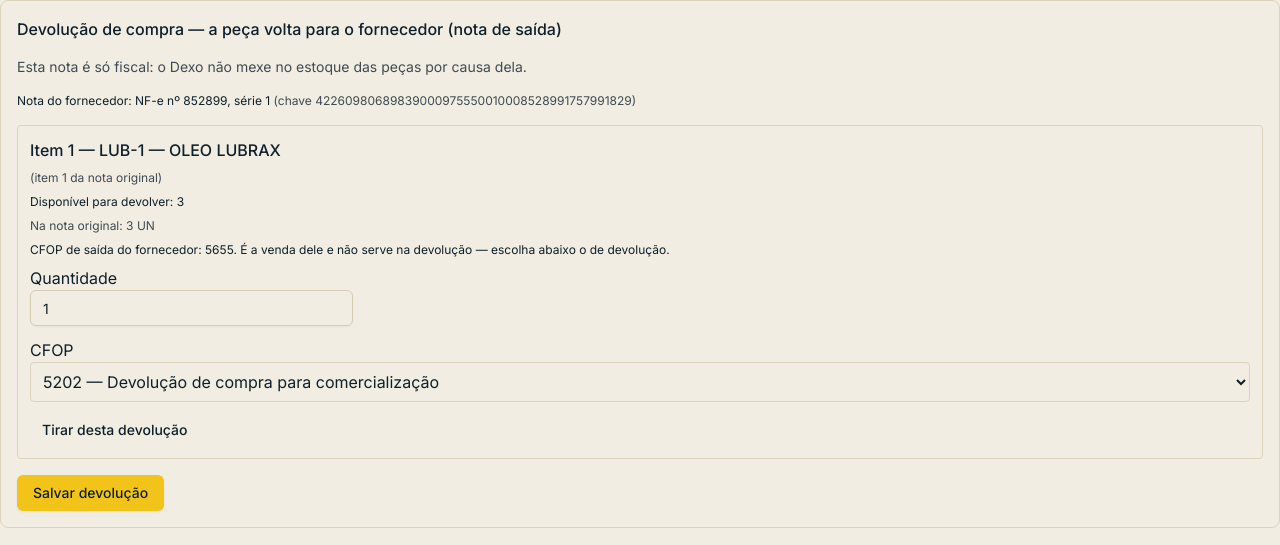
Test: K10 — quantidade: vazio não é zero, e o máximo vale de verdade › todas as peças tiradas: diz que precisa de pelo menos uma
Click the button "Tirar desta devolução". click: point(115, 430)
box: [30,414,200,446]
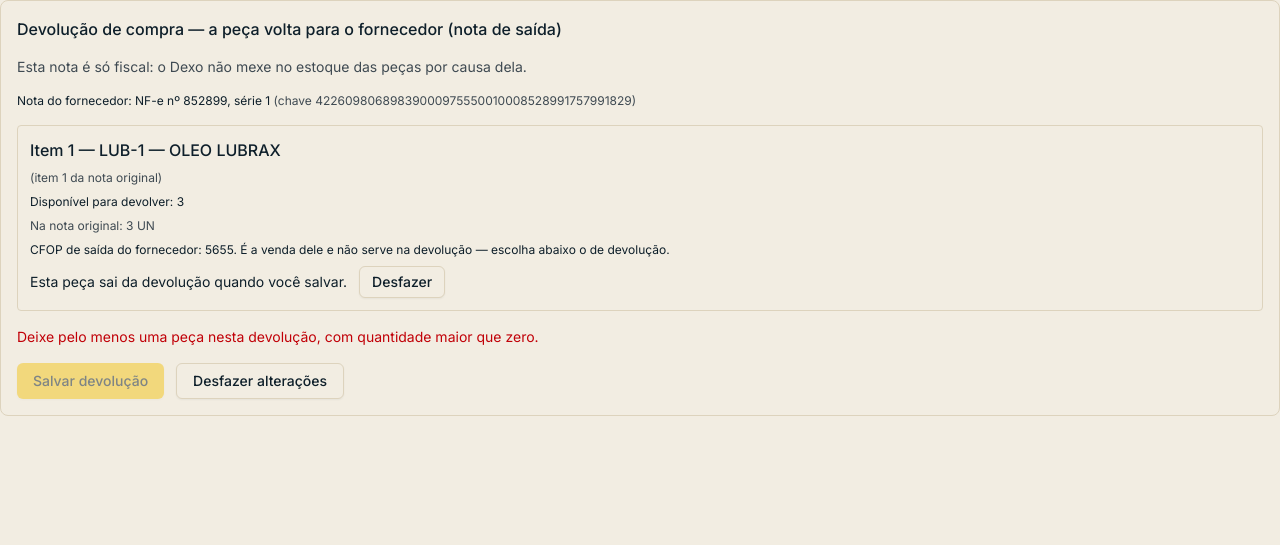
Expected: the text "Deixe pelo menos uma peça nesta devolução, com quantidade maior que zero." is shown, [17,328,539,345]
Expected: the button "Salvar devolução" is disabled, [17,363,164,399]
